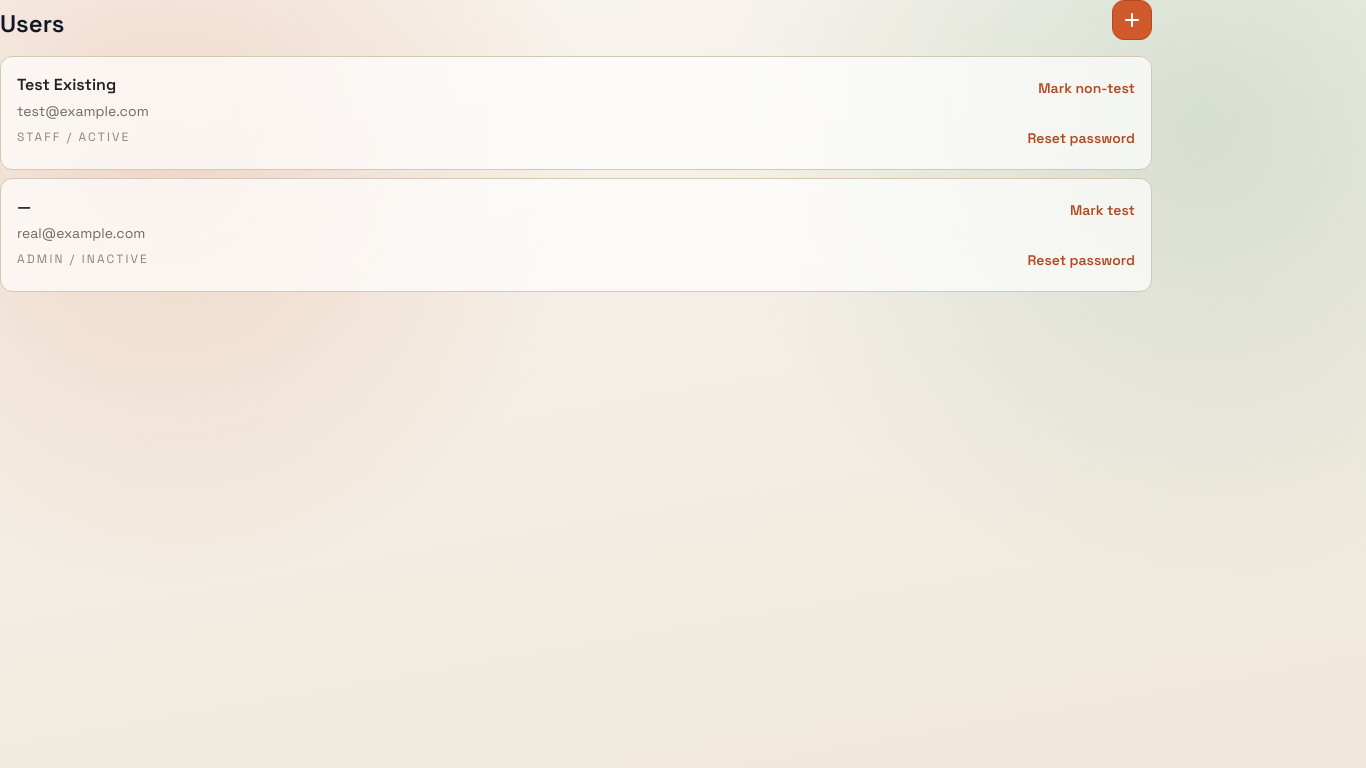
Test: UserRegistrationClient › opens and closes the registration form from the current users block
Check: the heading "Register a user" is not shown
Check: the heading "Users" is shown, box [0,8,64,40]
Click the button named "Register user": (1132, 20) [1112,0,1152,40]
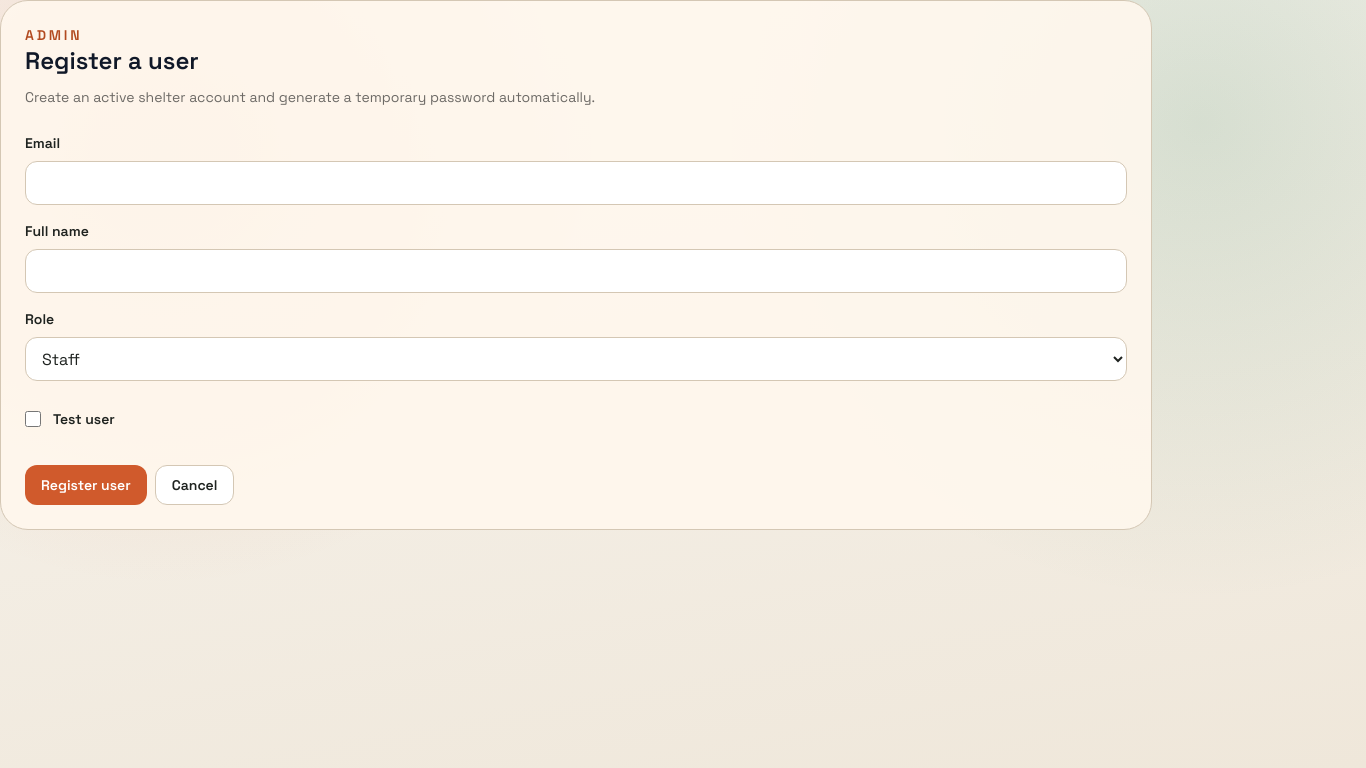
Check: the heading "Register a user" is shown, box [25,45,199,76]
Check: the field labelled "Email" is shown, box [25,161,1127,205]
Check: the text "Test Existing" is gone
Click the button "Cancel": (195, 485) [155,465,234,505]
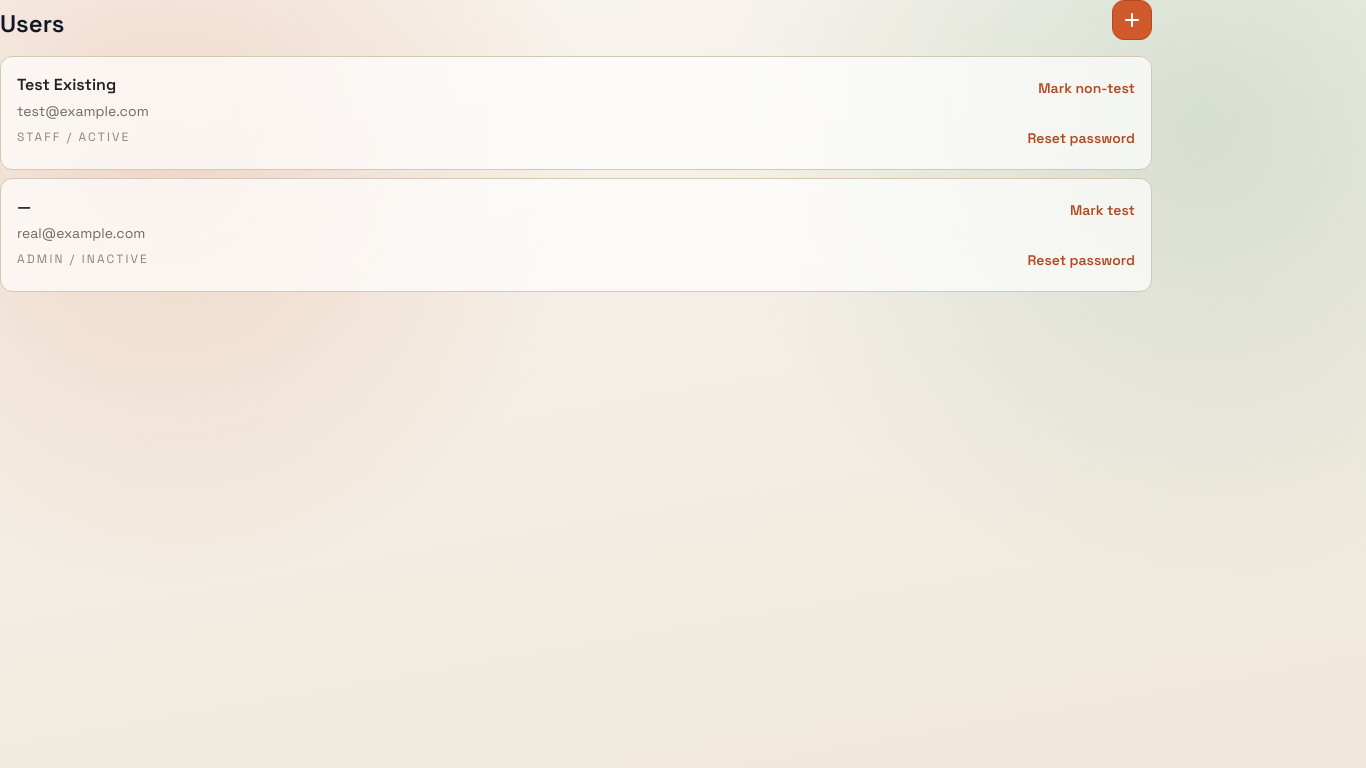
Check: the heading "Register a user" is gone
Check: the text "Test Existing" is shown, box [17,74,116,95]
